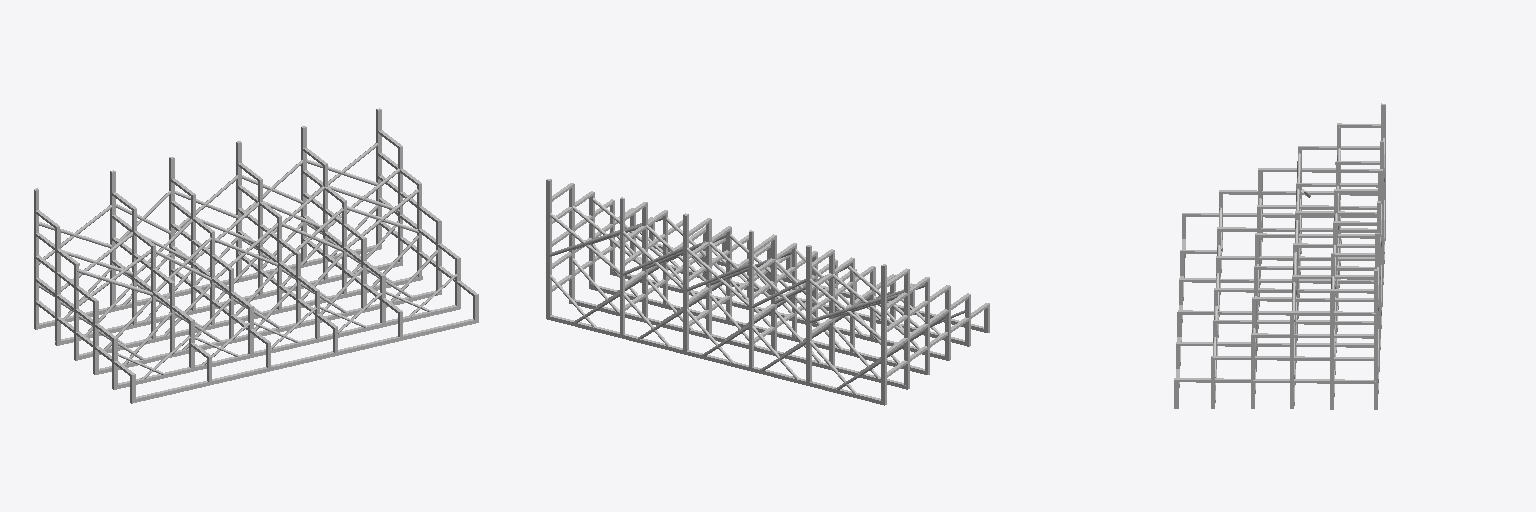
File: Vigas_Bancos.obj
3 renders of one model, left to right at view 1: azimuth 30°, elevation 25°; view 2: azimuth 150°, elevation 25°; view 3: azimuth 270°, elevation 25°, orthographic.
Parts seen in each view (by area): view 1: Bancos; view 2: Bancos; view 3: Bancos.
Part boxes in pixels (left/top/right/bottom): Bancos: left=34, top=108, right=478, bottom=403; Bancos: left=546, top=179, right=989, bottom=405; Bancos: left=1174, top=103, right=1385, bottom=409.
Size of the model in its own units: 4.4 by 1.69 by 2.33.